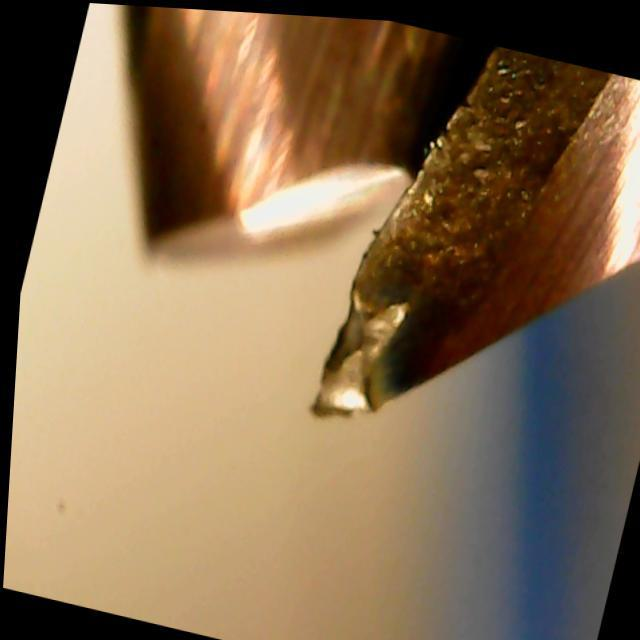Tool-wear-class-2: (288, 58, 558, 465)
